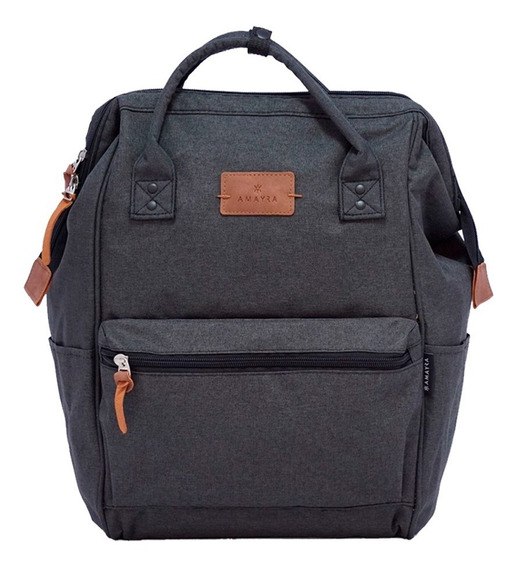cartera: (21, 25, 494, 542)
